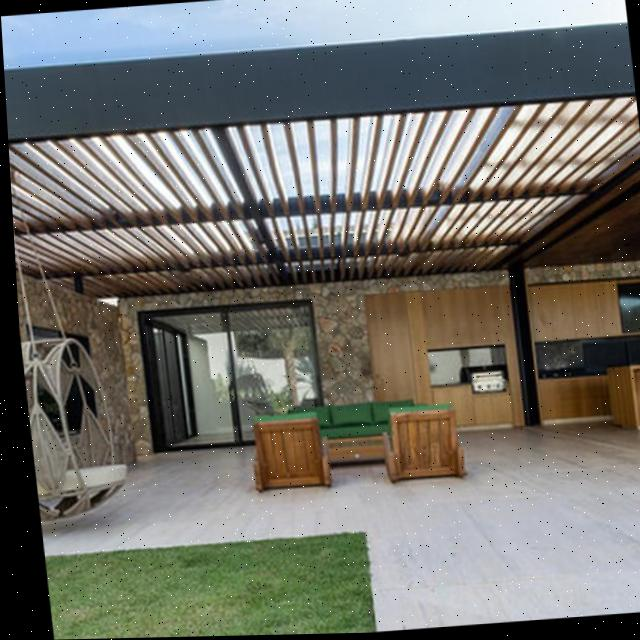building: (2, 20, 640, 465)
